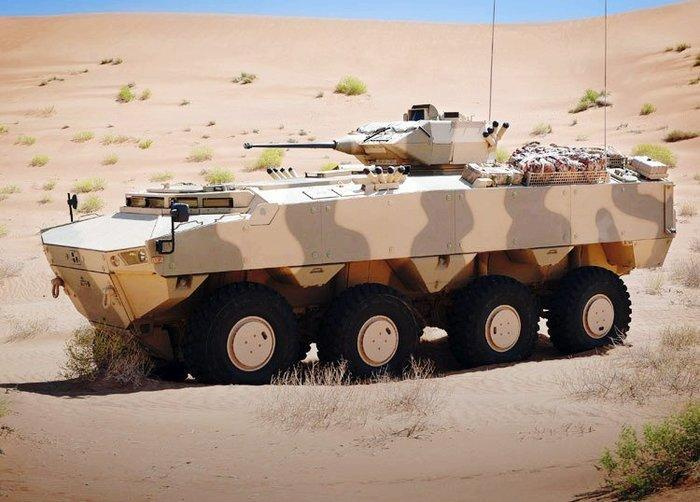MIL_IFV: (39, 100, 677, 389)
